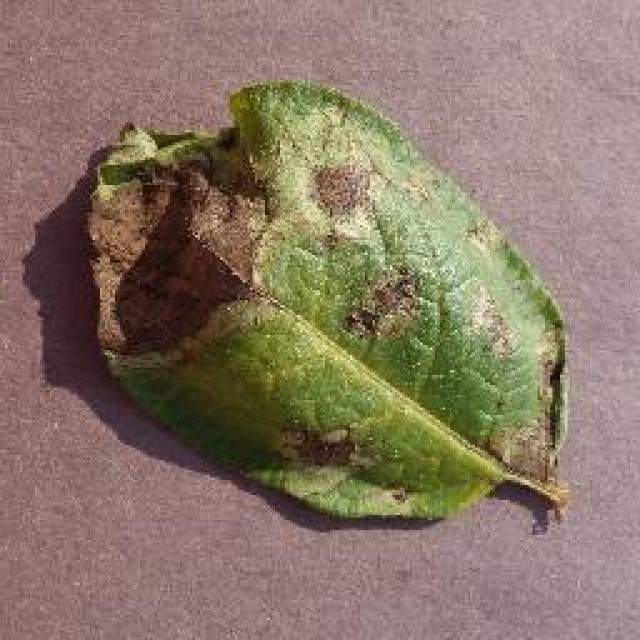Potato: (85, 75, 573, 527)
